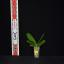leaf: (27, 33, 37, 45), (36, 34, 44, 46), (36, 40, 45, 47), (27, 40, 36, 46), (30, 44, 36, 47), (37, 45, 42, 47)
